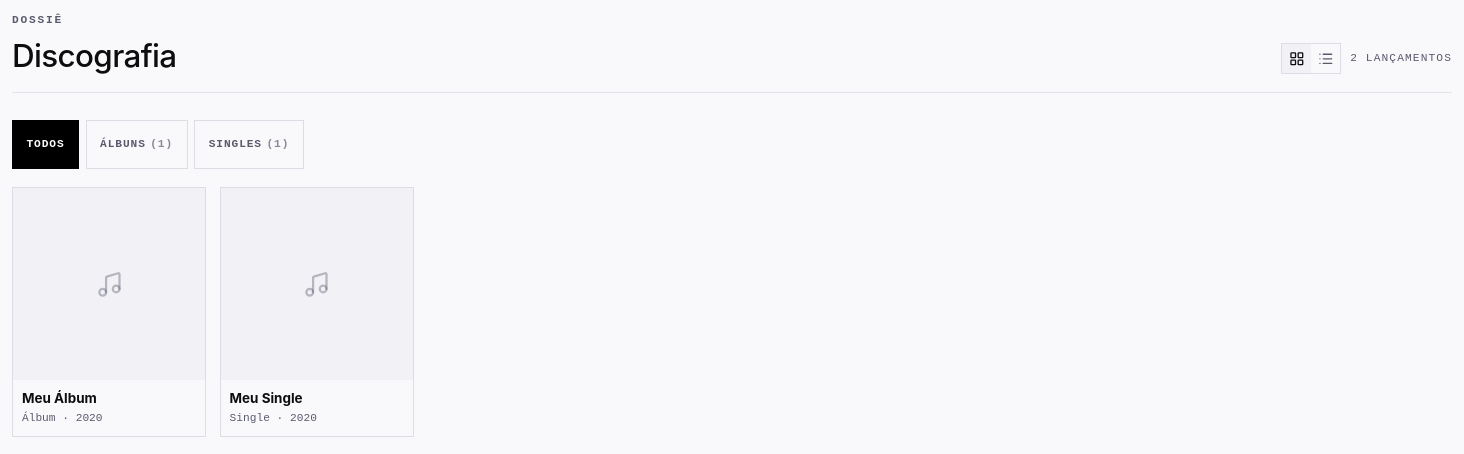
Test: GroupDiscography › clicar numa aba filtra os álbuns mostrados
Expected: the text "Meu Álbum" is shown, [22,390,97,406]
Expected: the text "Meu Single" is shown, [230,390,303,406]
Click the button "Singles(1)". click: [249, 144]
box: [194,120,304,169]
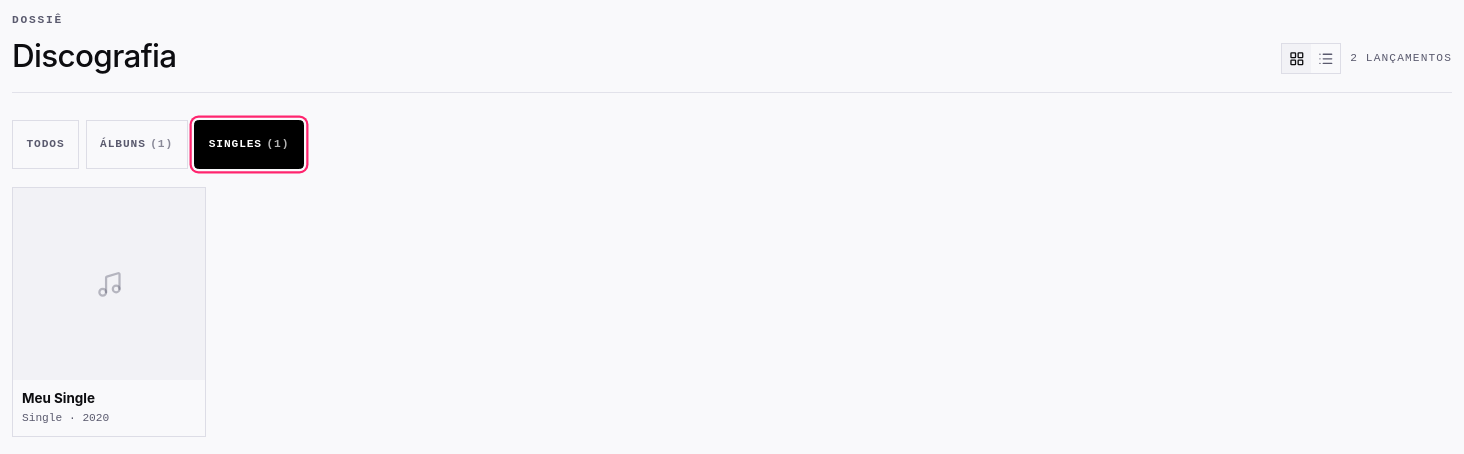
Expected: the text "Meu Single" is shown, [22,390,95,406]
Result: the text "Meu Álbum" is gone
